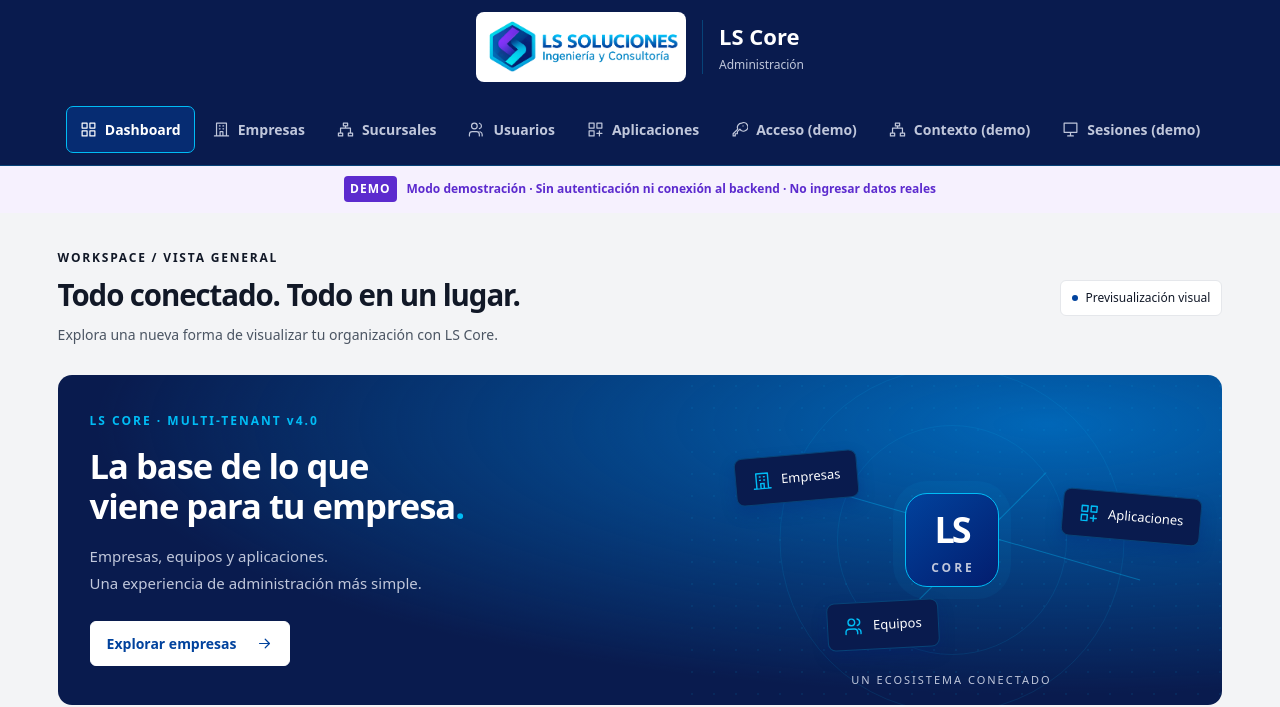
Test: Context and sessions visual previews › handles a company with no branches without inventing a location
Click the button "Contexto (demo)" at {"x": 960, "y": 130}, box x1=875 y1=106 x2=1044 y2=153
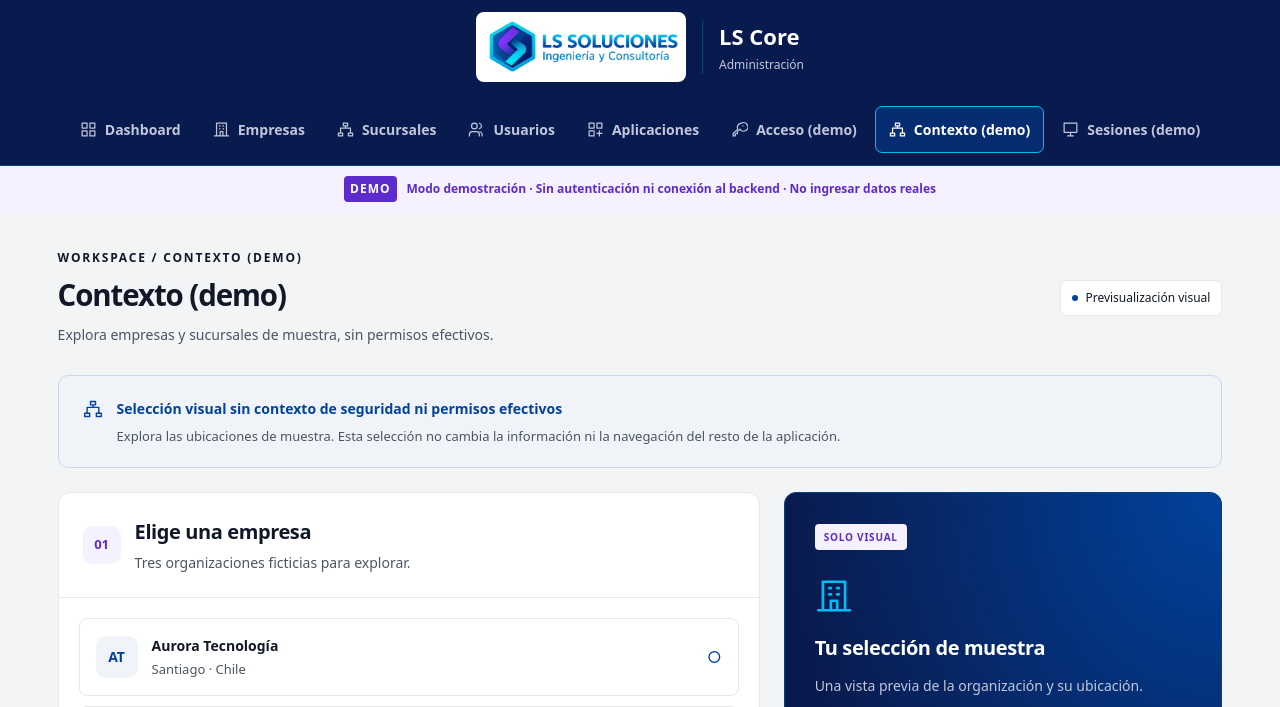
Click the button "AT Aurora Tecnología Santiago · Chile ○" at {"x": 117, "y": 657}, box x1=79 y1=618 x2=739 y2=696
(page scrolled)
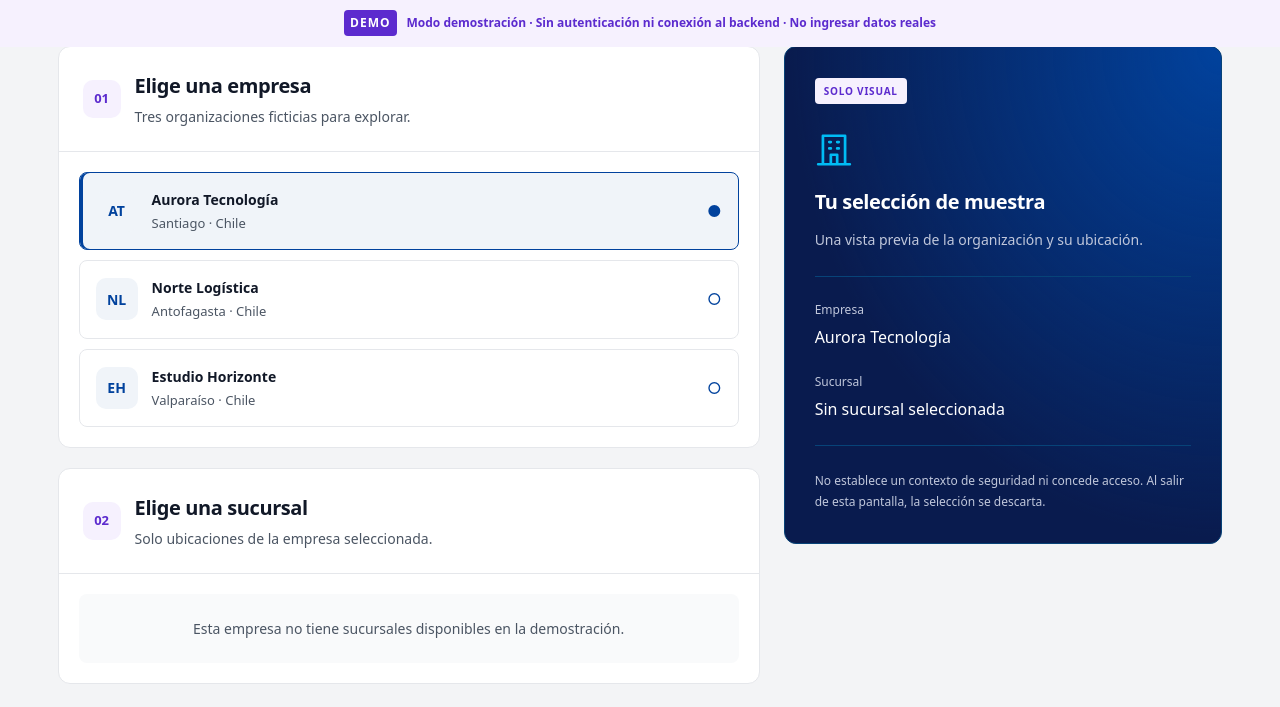
expect the message shows "Sin sucursal seleccionada": met, box x1=815 y1=398 x2=1005 y2=420
expect the text "Esta empresa no tiene sucursales disponibles en la demostración." is shown: met, box x1=79 y1=594 x2=739 y2=663
